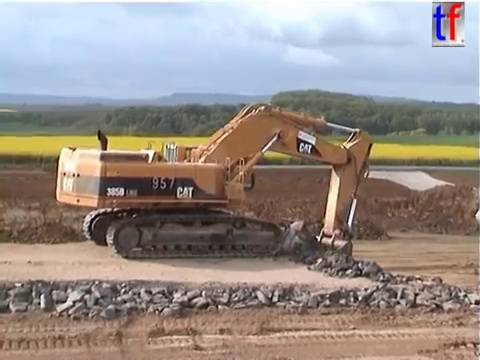excavator: (52, 100, 375, 288)
